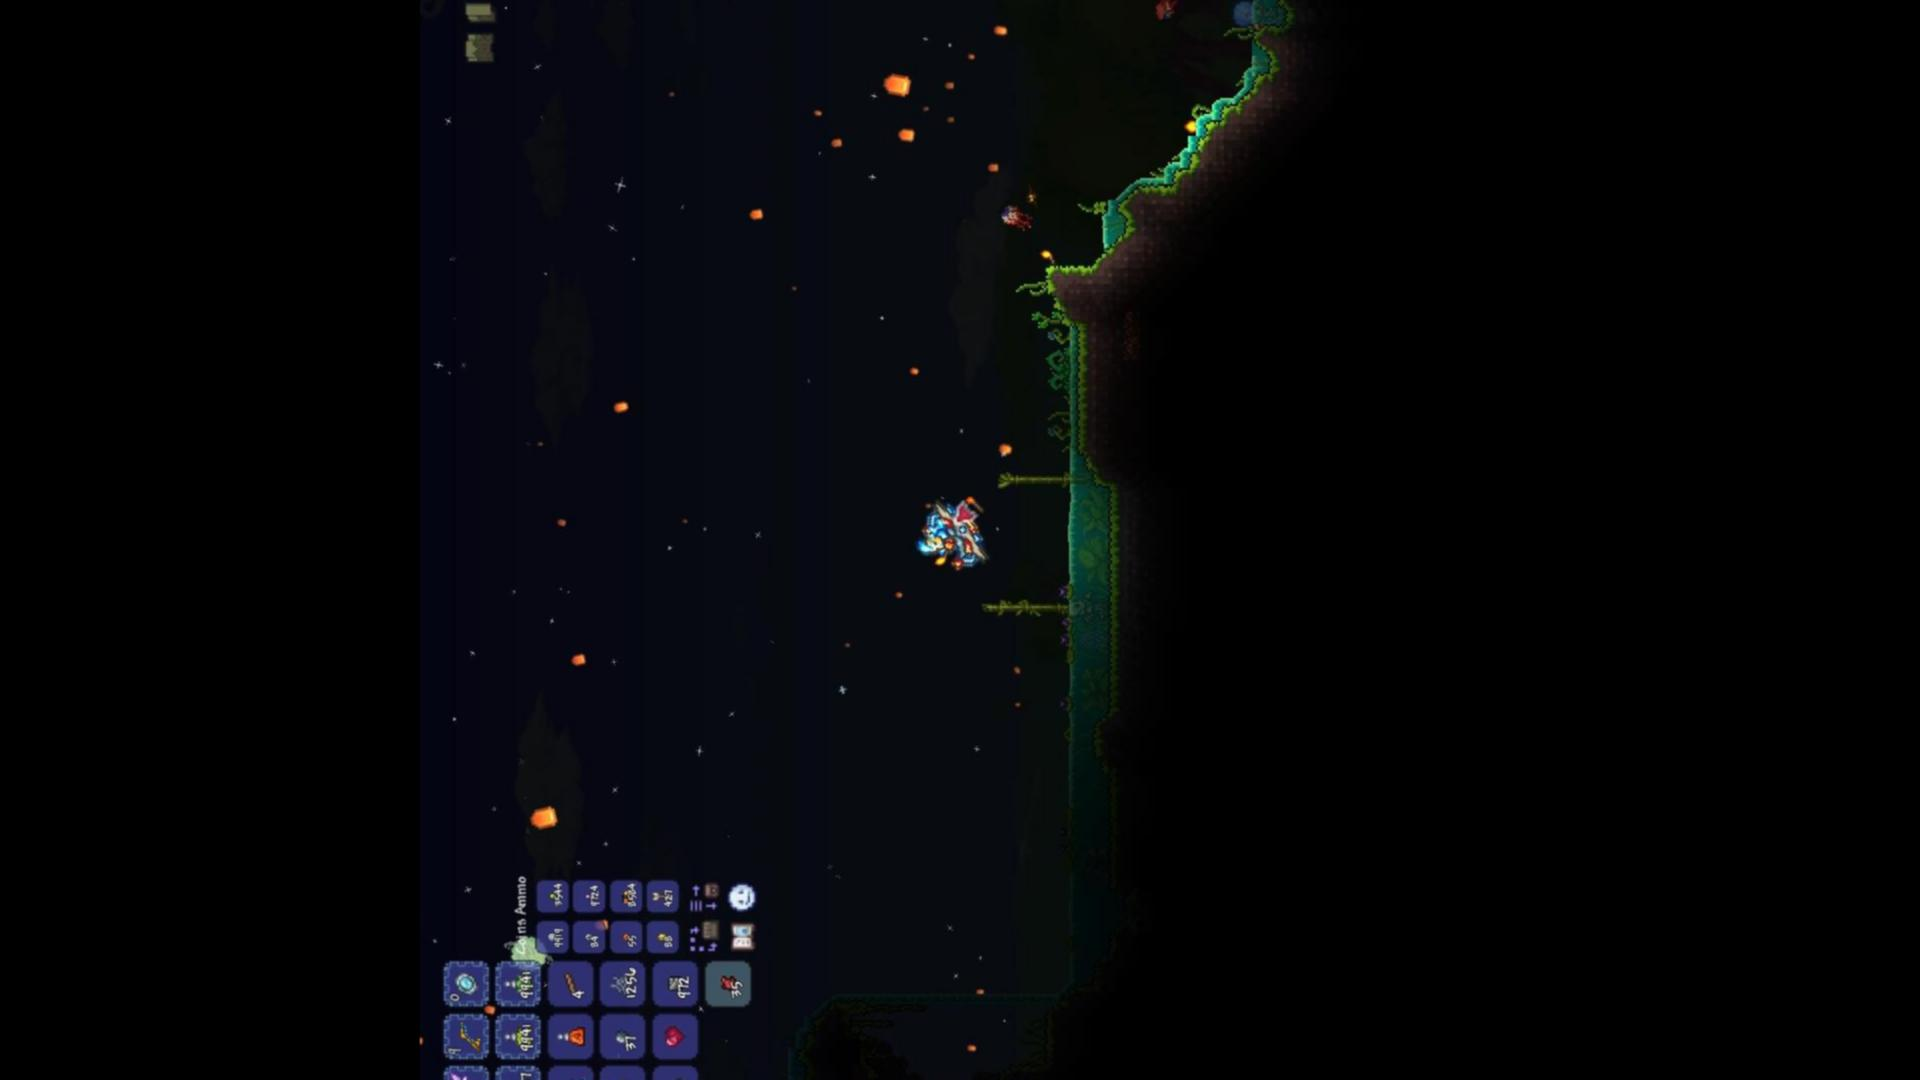eye: (992, 198, 1043, 227), (1145, 0, 1178, 25)
mirror: (450, 971, 479, 996)
